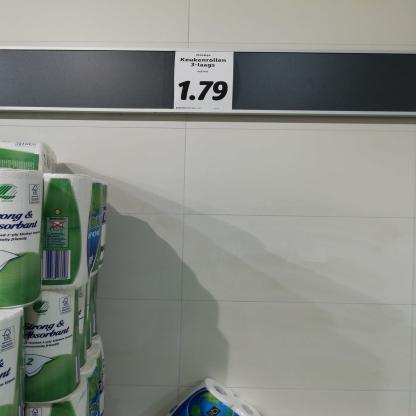prtg: (175, 52, 234, 111)
